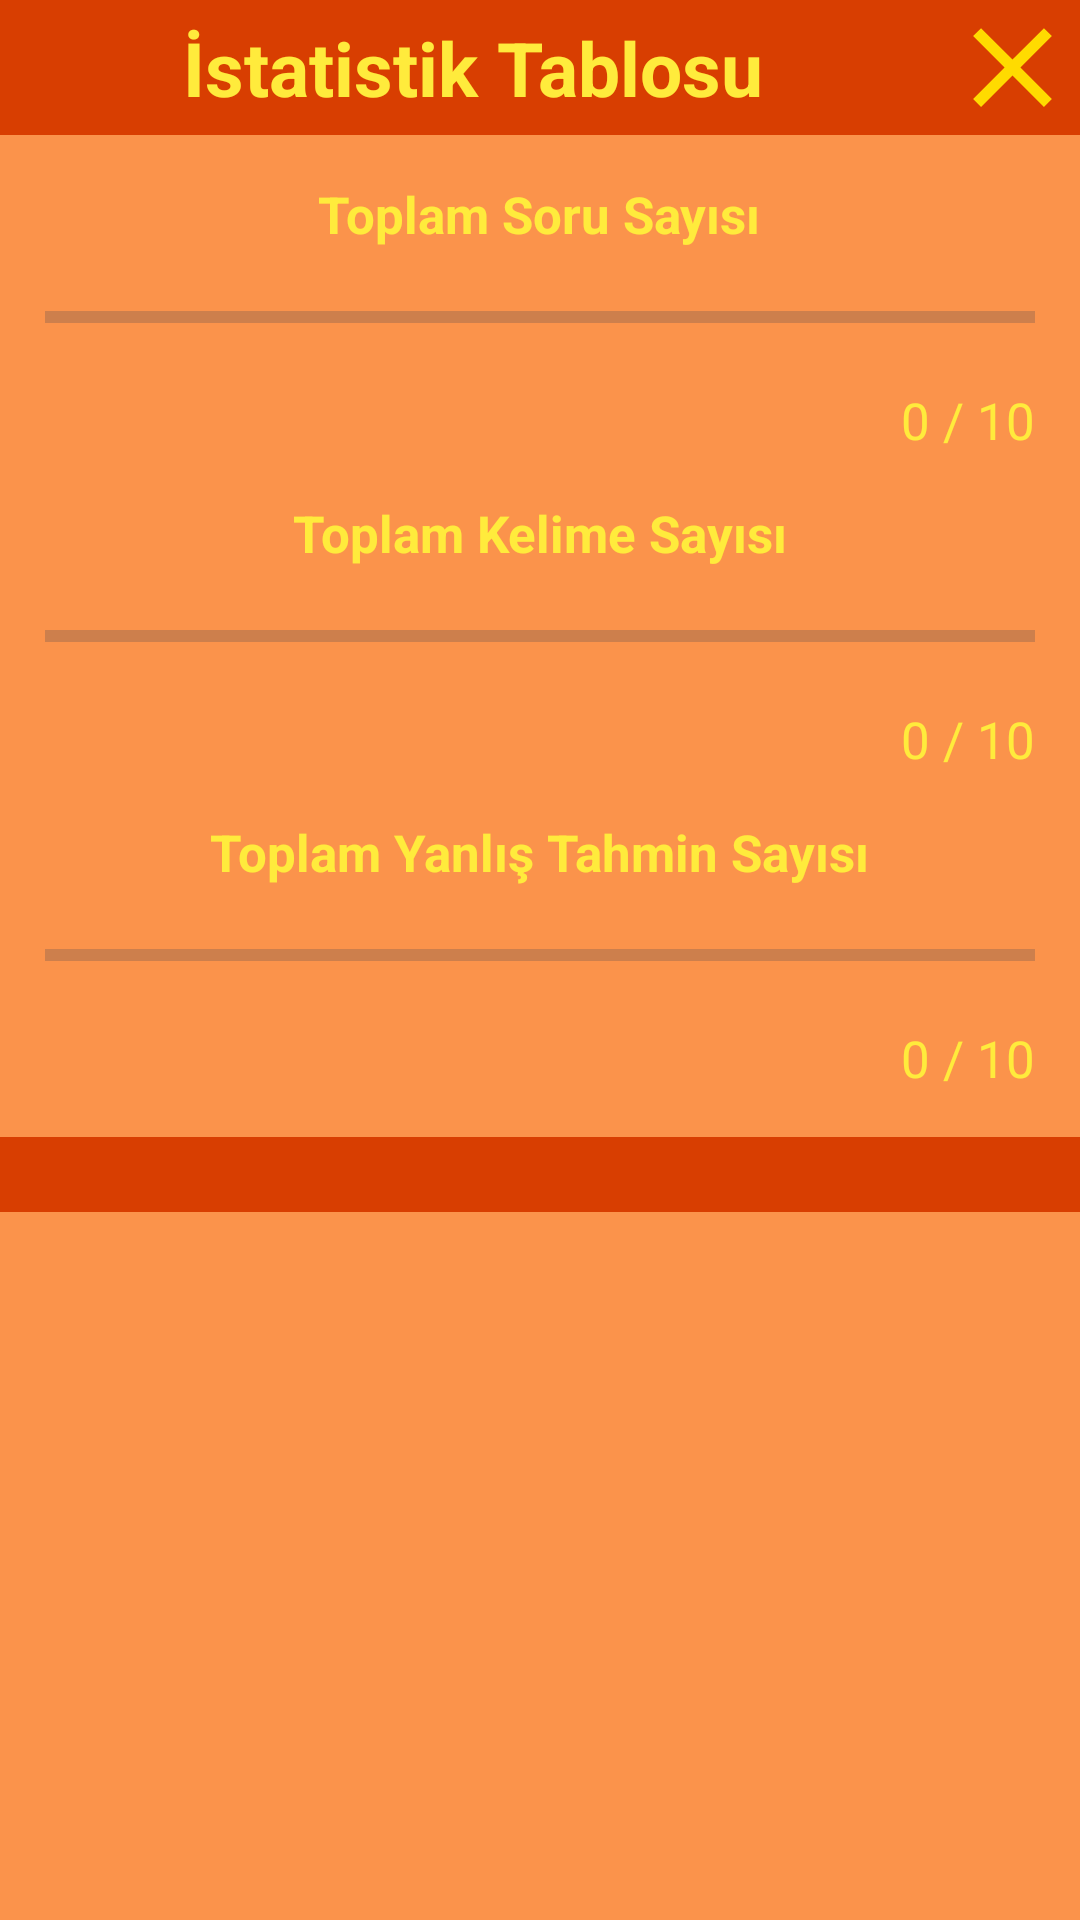

Locate icon controls on the screen. Image size 1080x1920, boxes as (x1, y1, x2, y2).
close: (973, 28, 1052, 107)
